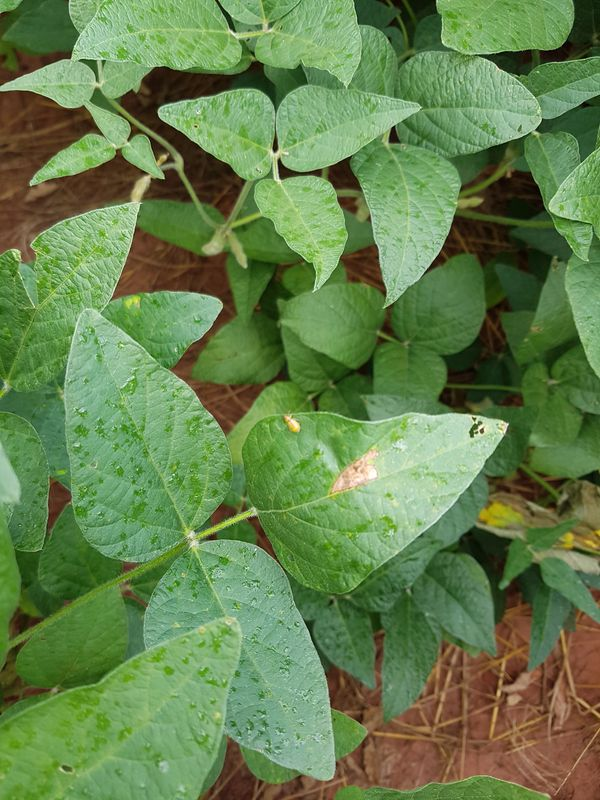Diabrotica_speciosa: (277, 409, 307, 439)
